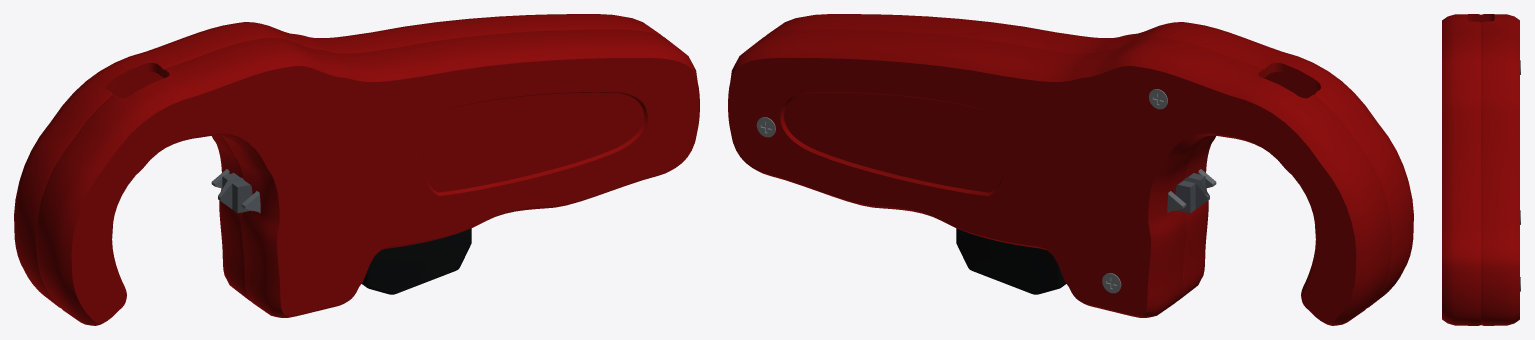
The picture shows the model from 3 angles, left to right: view 1: azimuth 30°, elevation 25°; view 2: azimuth 150°, elevation 25°; view 3: azimuth 270°, elevation 25°; orthographic projection. The views are drawn at different scales.
Parts seen in each view (by area): view 1: part_000_Rear_housing_shell, part_006_Front_housing_shell, part_001_Operating_paddle, part_008_Central_cutting_wedge; view 2: part_006_Front_housing_shell, part_000_Rear_housing_shell, part_001_Operating_paddle, part_008_Central_cutting_wedge; view 3: part_006_Front_housing_shell, part_000_Rear_housing_shell.
Boxes of the visible parts, x1,y1,x2,y2 form: part_000_Rear_housing_shell: (36,29,699,325); part_006_Front_housing_shell: (14,14,662,307); part_001_Operating_paddle: (361,228,471,294); part_008_Central_cutting_wedge: (218,173,252,213); part_006_Front_housing_shell: (728,29,1391,325); part_000_Rear_housing_shell: (765,14,1413,307); part_001_Operating_paddle: (956,228,1066,294); part_008_Central_cutting_wedge: (1175,173,1209,213); part_006_Front_housing_shell: (1481,14,1519,325); part_000_Rear_housing_shell: (1442,14,1480,325).
Bounding box in the file's own units: 0.2069 × 0.0841 × 0.0319.
